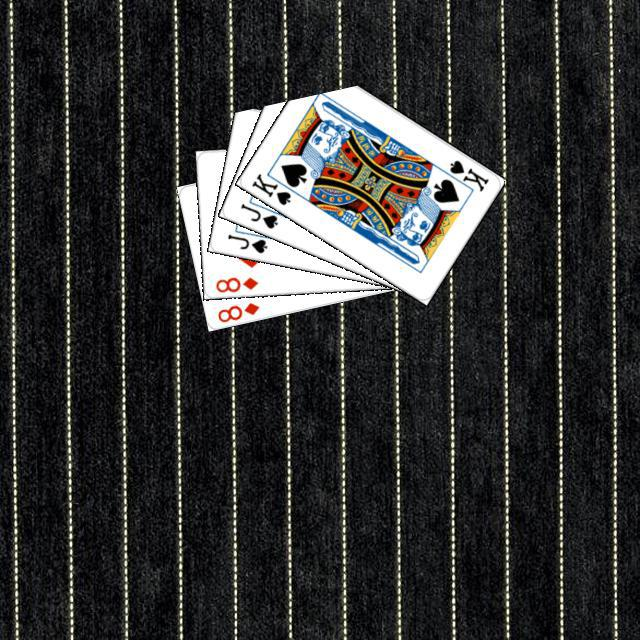8d: (213, 298, 261, 324), (211, 272, 259, 294)
Js: (236, 199, 279, 230), (223, 229, 269, 255)
Ks: (437, 155, 490, 194), (247, 168, 293, 207)
